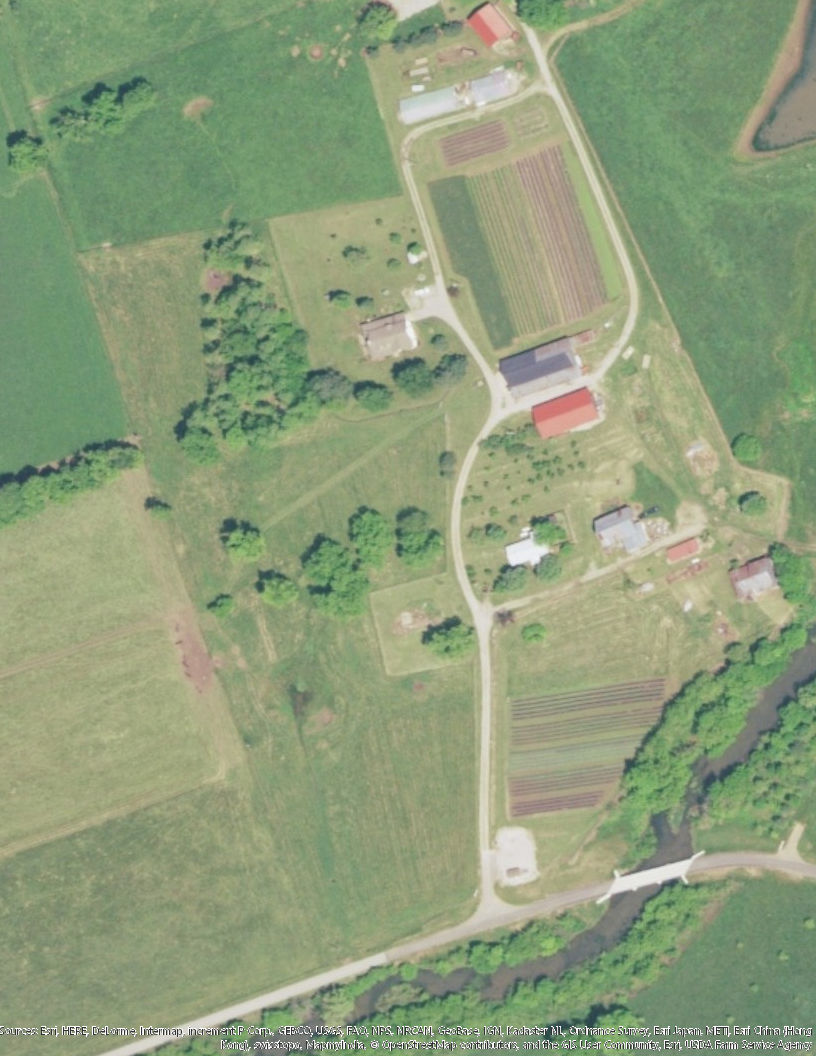cafo: (395, 68, 518, 128), (496, 330, 590, 398), (527, 385, 603, 445)
